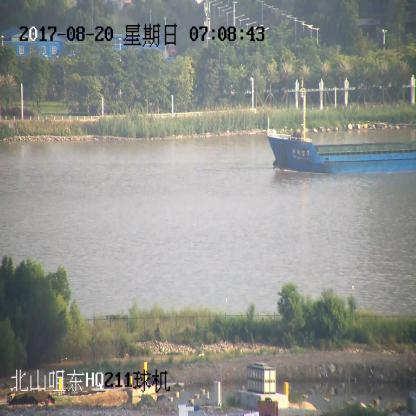Bulk Carrier: (266, 92, 416, 173)
